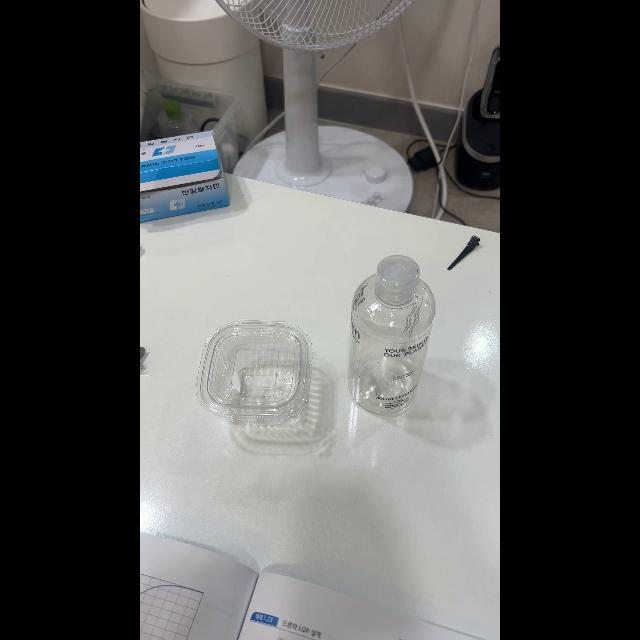clean: (347, 260, 437, 414), (198, 322, 312, 423)
